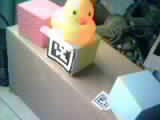duck: (53, 5, 98, 49)
